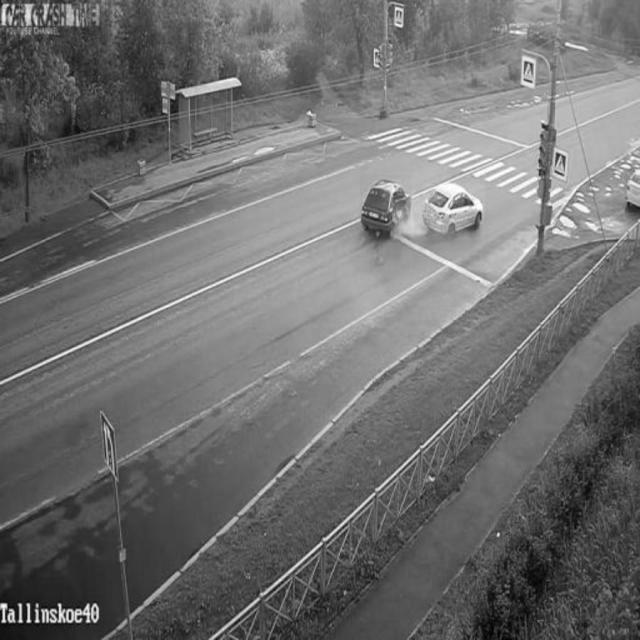vehicle: (422, 184, 486, 240), (360, 175, 411, 243), (625, 168, 640, 213)
